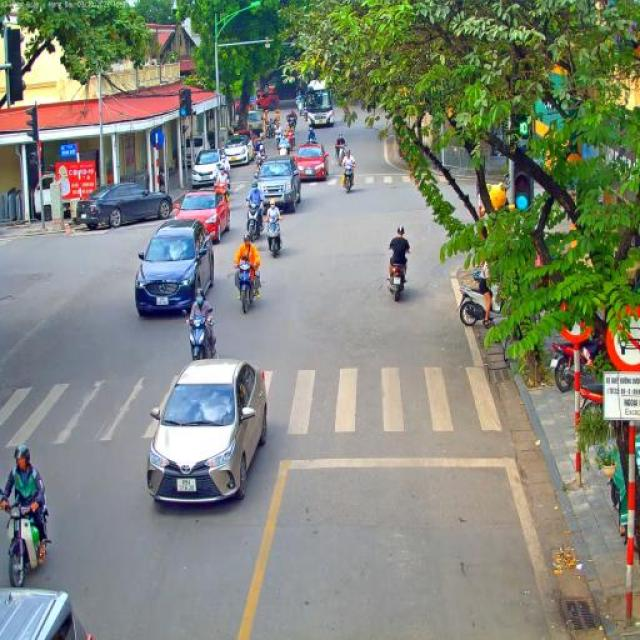bus: (304, 80, 335, 128)
car: (146, 357, 270, 508), (134, 216, 216, 320), (74, 180, 174, 230), (0, 587, 94, 640), (173, 187, 229, 244), (252, 154, 302, 213), (292, 143, 329, 182), (191, 148, 221, 187), (222, 135, 254, 166), (231, 129, 255, 156)
motorcycle: (0, 488, 54, 588), (550, 321, 600, 394), (607, 445, 640, 543), (455, 284, 509, 330), (227, 260, 265, 315), (183, 310, 219, 362), (578, 363, 604, 416), (264, 216, 284, 258), (387, 262, 407, 302), (246, 202, 264, 242), (214, 182, 230, 208), (342, 162, 354, 194), (254, 148, 268, 174), (335, 143, 347, 165), (219, 158, 231, 178), (285, 132, 296, 152), (274, 128, 284, 148), (288, 116, 298, 132), (278, 143, 290, 156), (266, 121, 275, 138), (306, 137, 318, 145), (296, 104, 302, 120)
truck: (31, 174, 80, 223), (237, 110, 265, 138), (256, 94, 280, 110)
